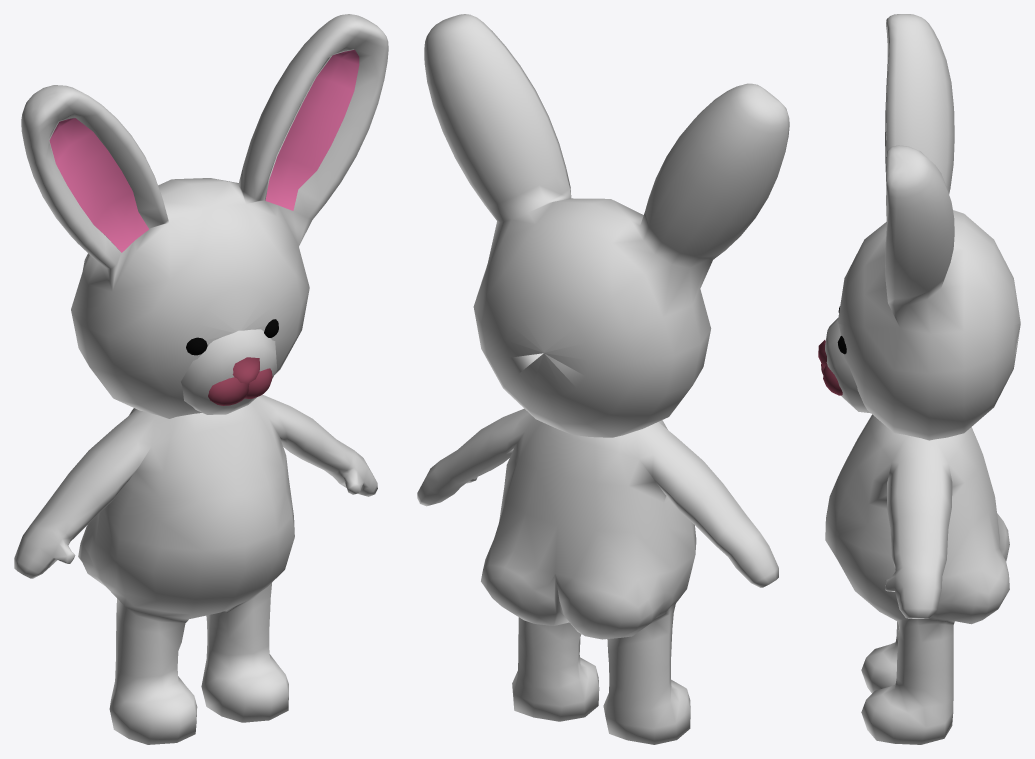
Rendered from Rabbit1.FBX.
3 renders of one model, left to right at view 1: azimuth 30°, elevation 25°; view 2: azimuth 150°, elevation 25°; view 3: azimuth 270°, elevation 25°, orthographic. The views are drawn at different scales.
Visible parts, largest first — view 1: bear_Face, EAR, nose; view 2: bear_Face; view 3: bear_Face, nose.
Part boxes in pixels (x1,y1,x2,y2): bear_Face: [14, 14, 388, 744]; EAR: [49, 49, 359, 252]; nose: [208, 357, 272, 405]; bear_Face: [417, 14, 789, 744]; bear_Face: [825, 14, 1020, 744]; nose: [818, 340, 842, 395].
Size of the model in its own units: 107 by 191 by 55.72.
